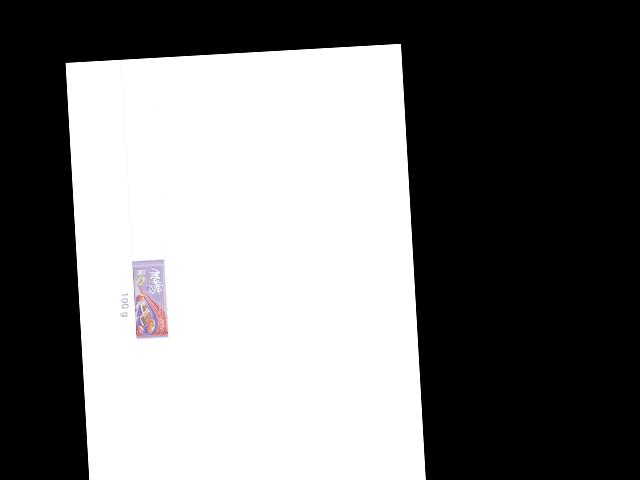chocolate: (128, 259, 168, 339)
